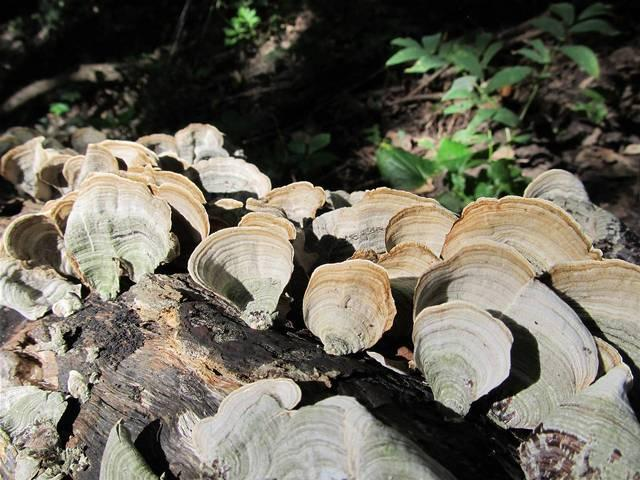Non-edible Mushroom: (1, 121, 638, 477), (300, 257, 397, 356)
